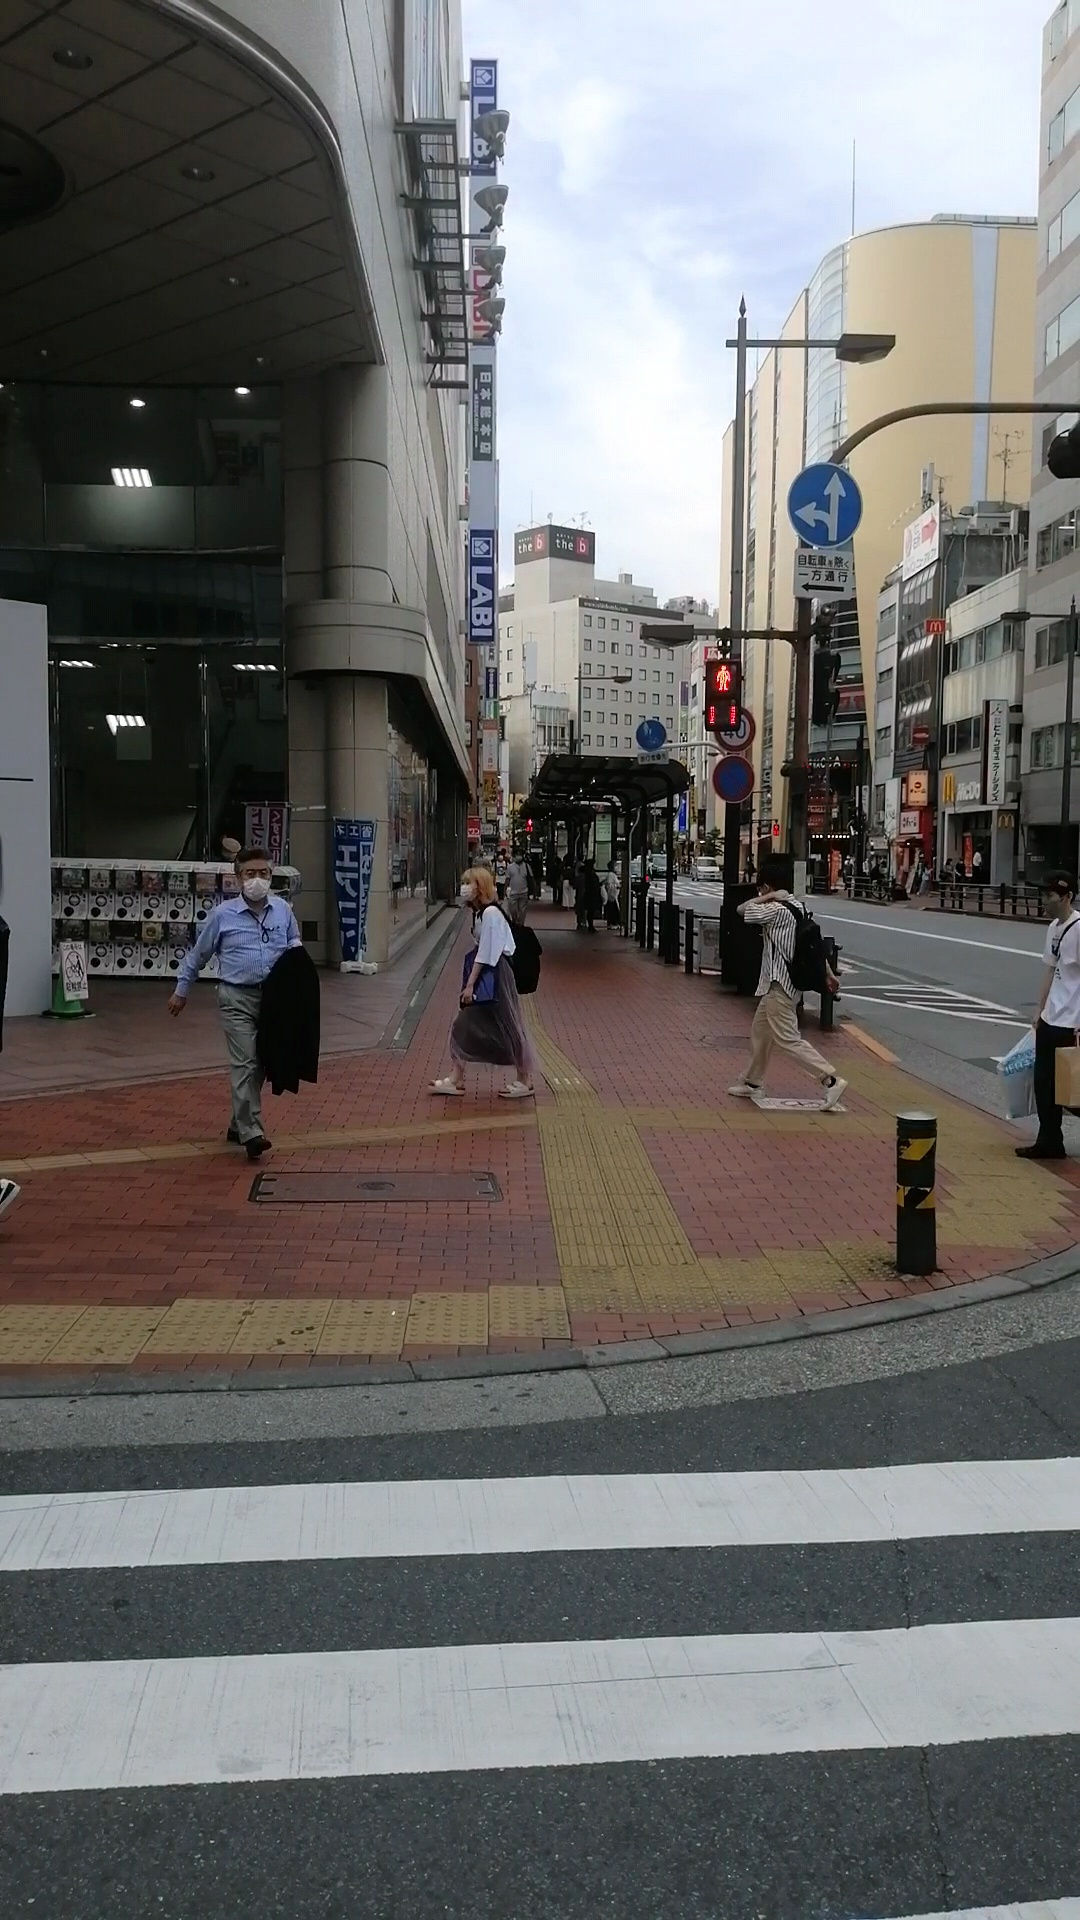red: (703, 659, 742, 732)
